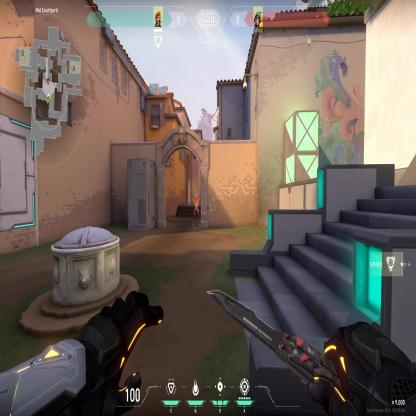enemy: (192, 193, 200, 227)
